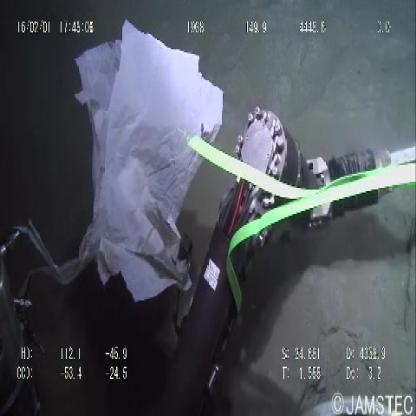Rov: (170, 105, 416, 394)
Rác: (63, 18, 220, 299)
